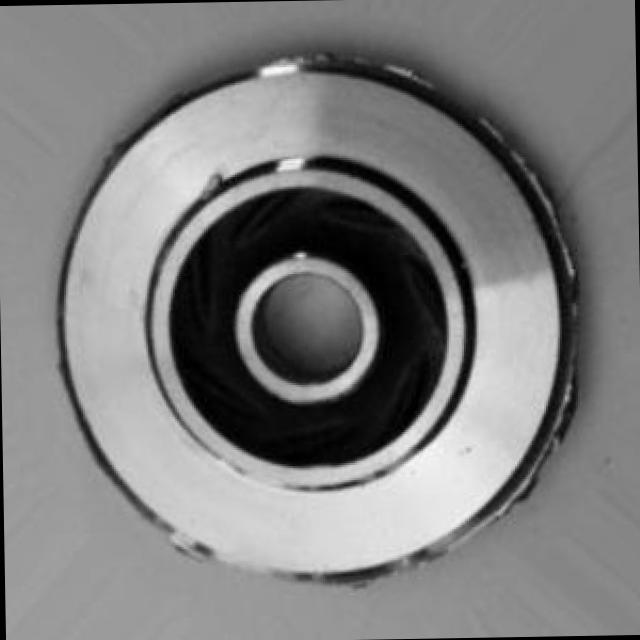Defect: (538, 384, 593, 433)
